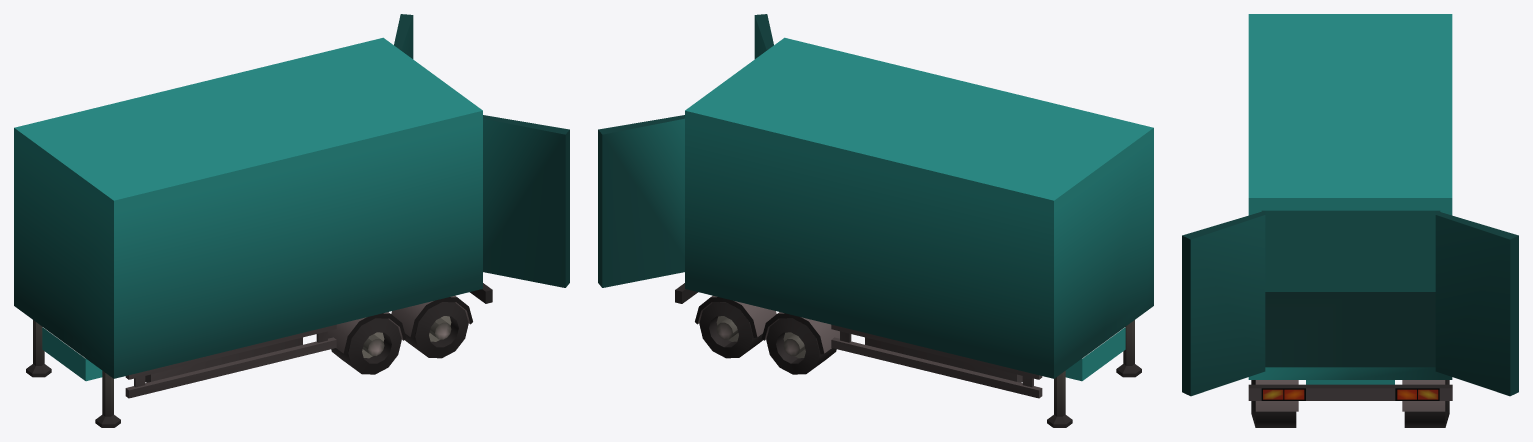
The model's file is Bus.fbx.
3 views of the same model, side by side, from view 1: azimuth 30°, elevation 25°; view 2: azimuth 150°, elevation 25°; view 3: azimuth 270°, elevation 25° (orthographic). The views are drawn at different scales.
Parts seen in each view (by area): view 1: Circle.001; view 2: Circle.001; view 3: Circle.001.
Boxes of the visible parts, left/top/right/bottom form: Circle.001: left=14, top=14, right=569, bottom=427; Circle.001: left=598, top=14, right=1153, bottom=427; Circle.001: left=1182, top=14, right=1518, bottom=427.
Bounding box in the file's own units: 1371 × 738 × 915.
